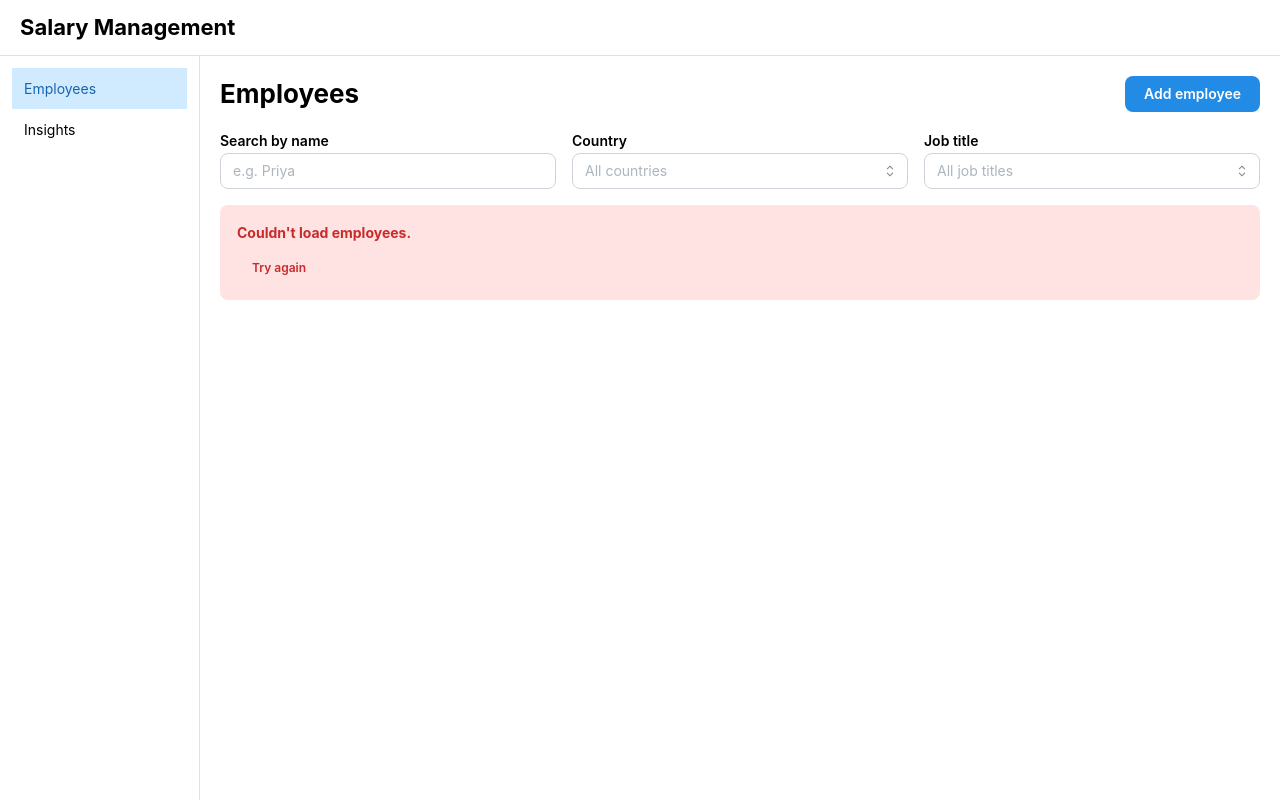
Test case: EmployeesPage › shows an error that can be retried
Click the button "Try again" at (279, 268), box left=237, top=254, right=321, bottom=284
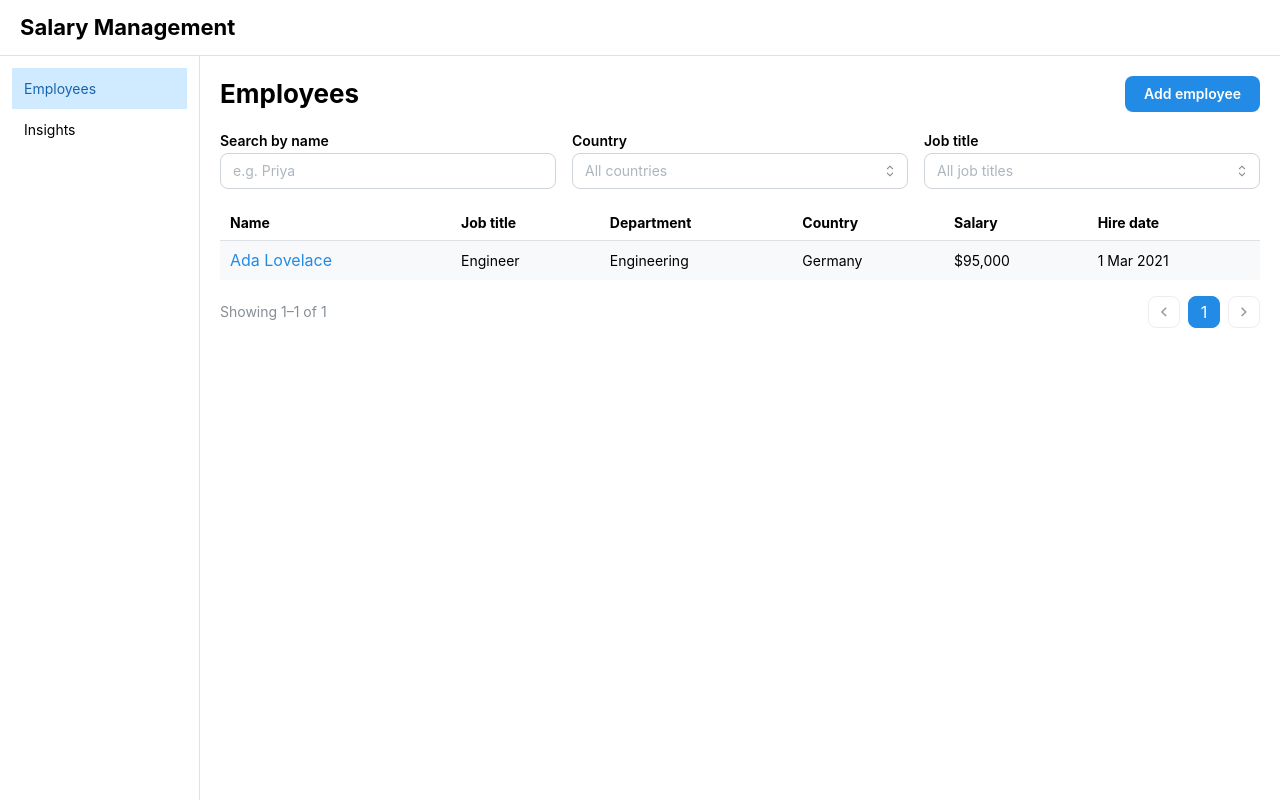
Result: the link "Ada Lovelace" is shown at left=230, top=250, right=332, bottom=270
